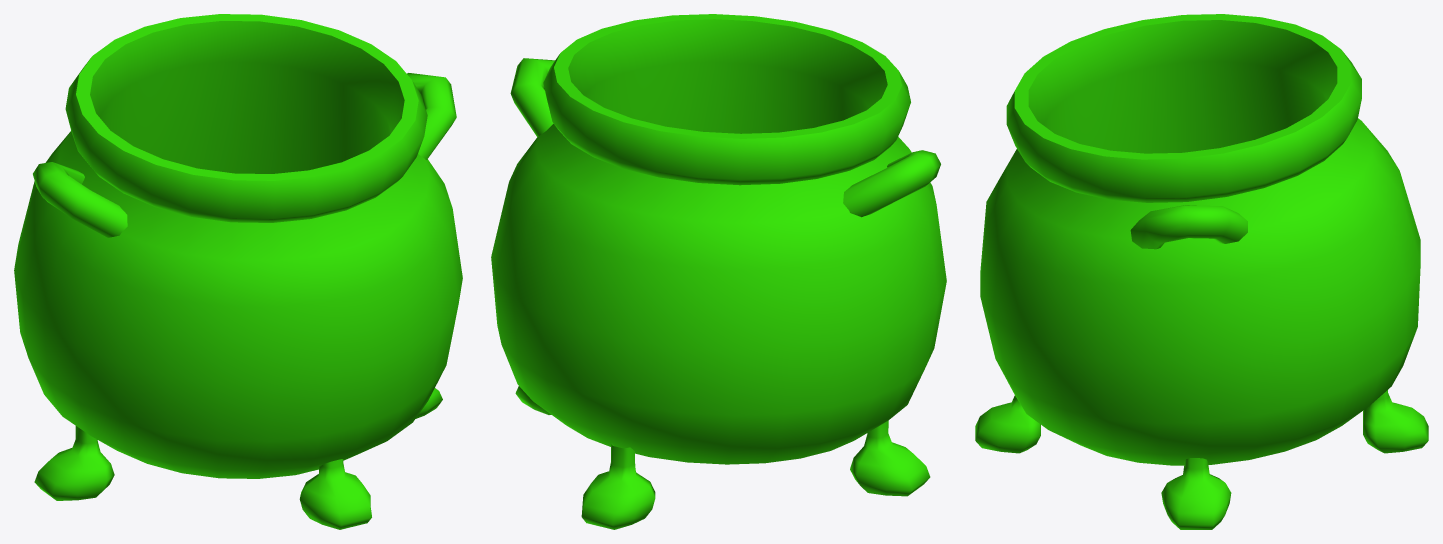
File: Cauldron.fbx
The picture shows the model from 3 angles, left to right: view 1: azimuth 30°, elevation 25°; view 2: azimuth 150°, elevation 25°; view 3: azimuth 270°, elevation 25°; orthographic projection. The views are drawn at different scales.
Parts seen in each view (by area): view 1: Cauldron; view 2: Cauldron; view 3: Cauldron.
Part boxes in pixels (x1=…): Cauldron: x1=14, y1=14, x2=462, y2=529; Cauldron: x1=491, y1=14, x2=946, y2=529; Cauldron: x1=975, y1=14, x2=1428, y2=529.
Bounding box in the file's own units: 0.599 × 0.5141 × 0.577.
